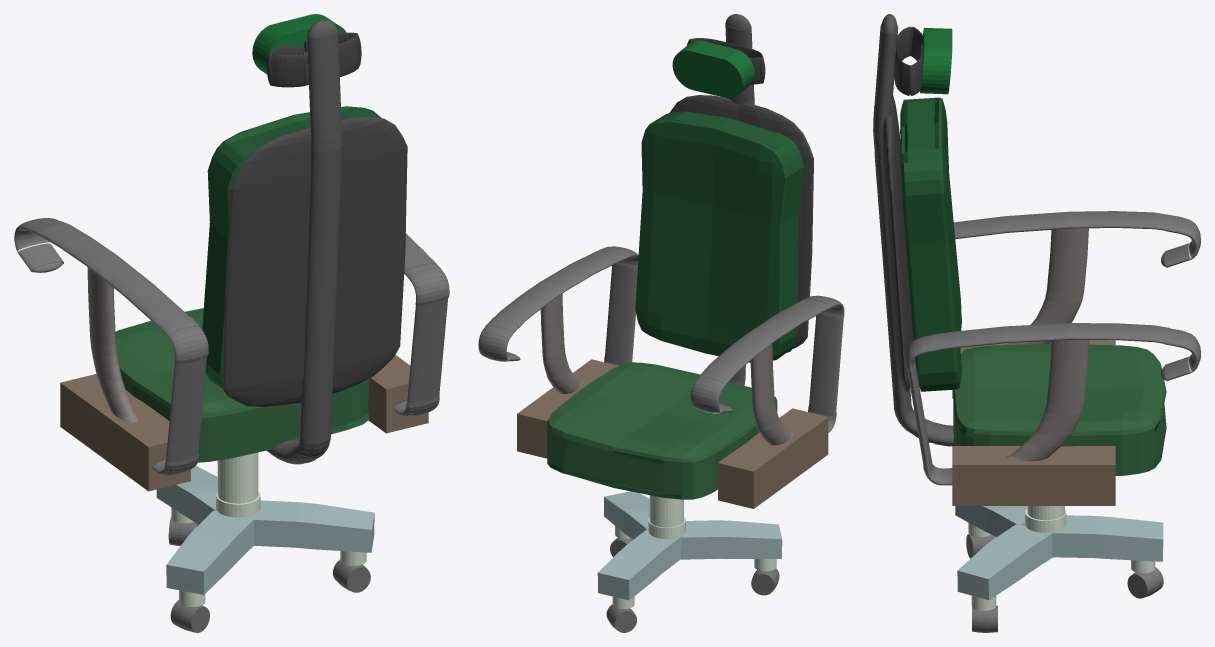
The model's file is desktop_chair.fbx.
3 views of the same model, side by side, from view 1: azimuth 30°, elevation 25°; view 2: azimuth 150°, elevation 25°; view 3: azimuth 270°, elevation 25° (orthographic). The views are drawn at different scales.
Parts seen in each view (by area): view 1: 球.004, 円柱.001, 立方体, 円柱.014, 立方体.002, 立方体.001, 円柱.016, 立方体.006, 立方体.005, 円柱.018, 立方体.003, 円柱.040 (+6 smaller); view 2: 立方体.001, 立方体, 円柱.014, 円柱.016, 立方体.002, 球.004, 円柱.018, 立方体.005, 円, 立方体.004, 立方体.003, 立方体.006 (+5 smaller); view 3: 立方体, 立方体.001, 立方体.003, 円柱.018, 円柱.016, 円柱.001, 円柱.014, 球.004, 立方体.004, 立方体.006, 円, 円柱.040 (+5 smaller).
Boxes of the visible parts, x1=… form: 球.004: x1=223, y1=116, x2=407, y2=406; 円柱.001: x1=267, y1=20, x2=342, y2=464; 立方体: x1=115, y1=308, x2=369, y2=462; 円柱.014: x1=14, y1=218, x2=208, y2=475; 立方体.002: x1=60, y1=374, x2=190, y2=491; 立方体.001: x1=202, y1=106, x2=381, y2=388; 円柱.016: x1=393, y1=233, x2=449, y2=416; 立方体.006: x1=253, y1=500, x2=374, y2=552; 立方体.005: x1=166, y1=510, x2=254, y2=594; 円柱.018: x1=87, y1=267, x2=138, y2=422; 立方体.003: x1=368, y1=355, x2=428, y2=433; 円柱.040: x1=267, y1=32, x2=361, y2=87; 立方体.001: x1=635, y1=111, x2=803, y2=362; 立方体: x1=547, y1=362, x2=777, y2=499; 円柱.014: x1=690, y1=295, x2=844, y2=432; 円柱.016: x1=478, y1=246, x2=638, y2=365; 立方体.002: x1=718, y1=408, x2=828, y2=508; 球.004: x1=669, y1=95, x2=813, y2=348; 円柱.018: x1=540, y1=294, x2=793, y2=445; 立方体.005: x1=681, y1=520, x2=782, y2=559; 円: x1=672, y1=40, x2=754, y2=98; 立方体.004: x1=597, y1=529, x2=680, y2=600; 立方体.003: x1=517, y1=359, x2=618, y2=458; 立方体.006: x1=604, y1=491, x2=649, y2=539; 立方体: x1=953, y1=344, x2=1166, y2=475; 立方体.001: x1=900, y1=97, x2=961, y2=391; 立方体.003: x1=952, y1=446, x2=1115, y2=505; 円柱.018: x1=1005, y1=228, x2=1088, y2=461; 円柱.016: x1=905, y1=323, x2=1200, y2=485; 円柱.001: x1=873, y1=14, x2=954, y2=446; 円柱.014: x1=953, y1=211, x2=1200, y2=267; 球.004: x1=882, y1=95, x2=913, y2=391; 立方体.004: x1=1052, y1=515, x2=1163, y2=561; 立方体.006: x1=957, y1=524, x2=1052, y2=600; 円: x1=920, y1=28, x2=952, y2=94; 円柱.040: x1=894, y1=26, x2=923, y2=95.
Bounding box in the file's own units: 685 × 1441 × 739.
